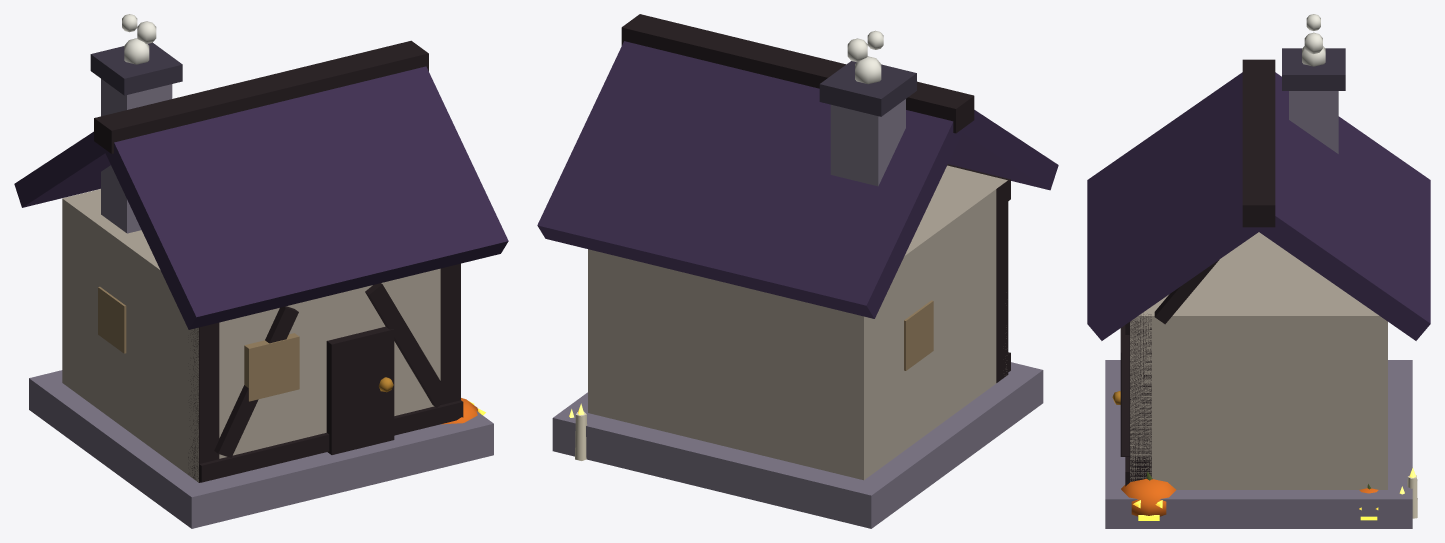
The model's file is building_house.glb.
3 views of the same model, side by side, from view 1: azimuth 30°, elevation 25°; view 2: azimuth 150°, elevation 25°; view 3: azimuth 270°, elevation 25° (orthographic). The views are drawn at different scales.
Visible parts, largest first — view 1: roof_south, walls, foundation, ridge, door, timber_sill, roof_north, window_front, timber_corner_w, chimney_cap, chimney, timber_corner_e (+4 smaller); view 2: walls, roof_north, foundation, ridge, chimney, roof_south, chimney_cap, timber_corner_w, window_side, puff_0, deco_hw_candles; view 3: walls, roof_south, roof_north, foundation, ridge, timber_corner_e, chimney_cap, chimney, deco_hw_jack_0_body, timber_brace_e, gable_board_e.
Part boxes in pixels (x1,y1,x2,y2): roof_south: [103, 66, 508, 329]; walls: [62, 189, 440, 482]; foundation: [29, 370, 493, 528]; ridge: [94, 40, 428, 153]; door: [326, 326, 394, 454]; timber_sill: [199, 400, 463, 482]; roof_north: [14, 131, 110, 207]; window_front: [244, 333, 299, 401]; timber_corner_w: [188, 322, 219, 482]; chimney_cap: [90, 42, 182, 95]; chimney: [101, 79, 172, 233]; timber_corner_e: [440, 263, 460, 404]; walls: [588, 165, 1007, 480]; roof_north: [537, 41, 962, 318]; foundation: [552, 362, 1043, 528]; ridge: [621, 14, 974, 133]; chimney: [830, 99, 905, 186]; roof_south: [948, 110, 1058, 190]; chimney_cap: [819, 61, 916, 116]; timber_corner_w: [987, 175, 1008, 382]; window_side: [904, 300, 933, 370]; puff_0: [855, 56, 881, 84]; deco_hw_candles: [569, 403, 587, 460]; walls: [1130, 232, 1387, 489]; roof_south: [1087, 72, 1265, 340]; roof_north: [1254, 72, 1430, 340]; foundation: [1105, 360, 1412, 528]; ridge: [1242, 59, 1275, 227]; timber_corner_e: [1129, 314, 1151, 482]; chimney_cap: [1282, 48, 1345, 90]; chimney: [1289, 91, 1338, 153]; deco_hw_jack_0_body: [1121, 478, 1175, 516]; timber_brace_e: [1122, 325, 1129, 456]; gable_board_e: [1154, 259, 1219, 324].
Bounding box in the file's own units: 0.3171 × 0.4 × 0.3134.
